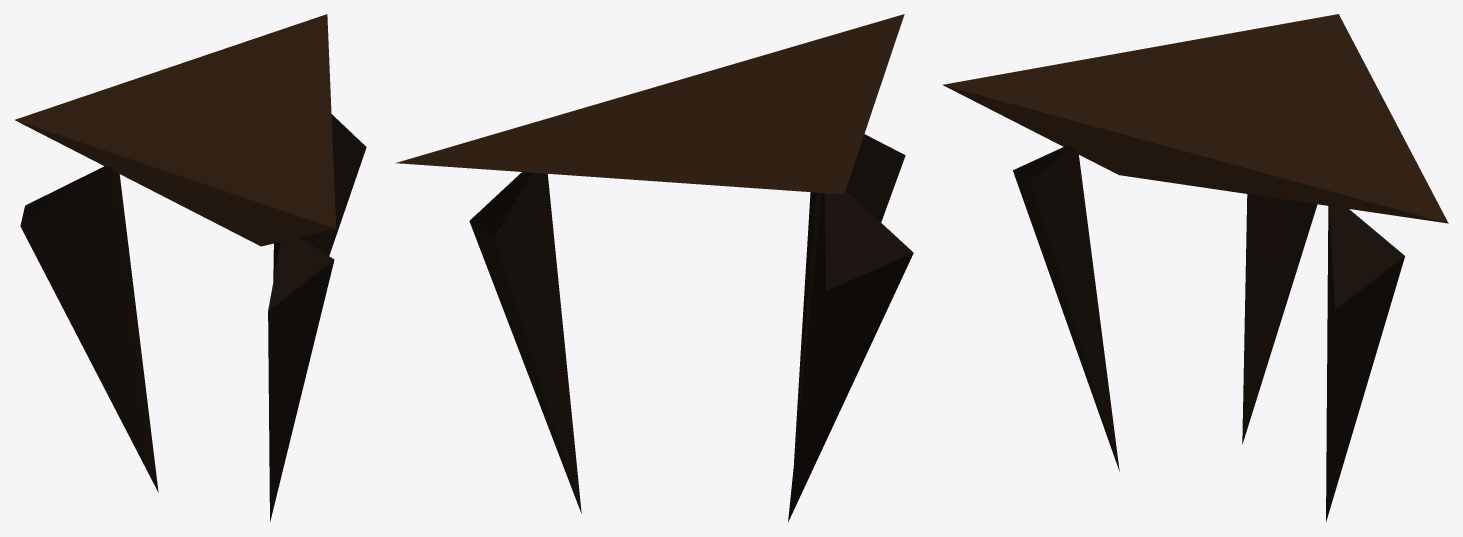
File: c_furniture_stool_triangle_wood_aa.fbx
3 renders of one model, left to right at view 1: azimuth 30°, elevation 25°; view 2: azimuth 150°, elevation 25°; view 3: azimuth 270°, elevation 25°, orthographic. The views are drawn at different scales.
Visible parts, largest first — view 1: c_furniture_stool_triangle_wood_aa; view 2: c_furniture_stool_triangle_wood_aa; view 3: c_furniture_stool_triangle_wood_aa.
Boxes of the visible parts, <box> form: c_furniture_stool_triangle_wood_aa: <box>15,14,366,521</box>; c_furniture_stool_triangle_wood_aa: <box>395,14,913,522</box>; c_furniture_stool_triangle_wood_aa: <box>943,14,1448,521</box>.
Bounding box in the file's own units: 0.5371 × 0.4724 × 0.5692.
